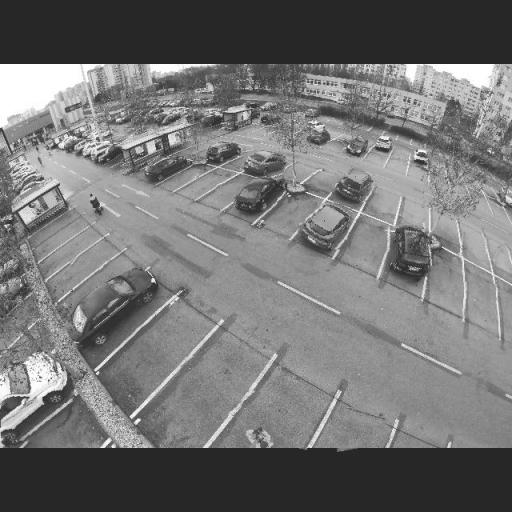busy: (0, 358, 75, 444), (64, 272, 156, 336), (386, 220, 434, 282), (298, 202, 350, 249), (231, 176, 287, 213), (332, 168, 374, 202), (239, 149, 286, 177), (143, 156, 188, 180), (202, 142, 238, 164), (89, 144, 124, 164), (11, 171, 45, 191), (340, 135, 368, 158), (304, 128, 330, 147), (79, 142, 108, 158), (156, 112, 186, 126), (66, 139, 91, 154), (409, 150, 428, 167), (373, 135, 393, 151), (260, 113, 281, 125)
free: (235, 392, 314, 446), (176, 357, 246, 414), (331, 404, 389, 450), (134, 326, 189, 362), (346, 228, 388, 258), (462, 283, 498, 317), (428, 266, 464, 299), (459, 233, 488, 261), (274, 203, 305, 224), (367, 194, 398, 214), (70, 252, 100, 272), (432, 218, 459, 240), (398, 205, 428, 224), (490, 246, 512, 268), (98, 260, 116, 286), (309, 174, 336, 191), (216, 182, 240, 198), (410, 166, 432, 181), (60, 242, 82, 256), (284, 166, 306, 180), (177, 170, 199, 182), (196, 177, 218, 188), (56, 225, 70, 242), (388, 157, 407, 169), (325, 141, 344, 152), (230, 157, 248, 168), (367, 154, 385, 164), (390, 153, 406, 164), (394, 150, 408, 159)
